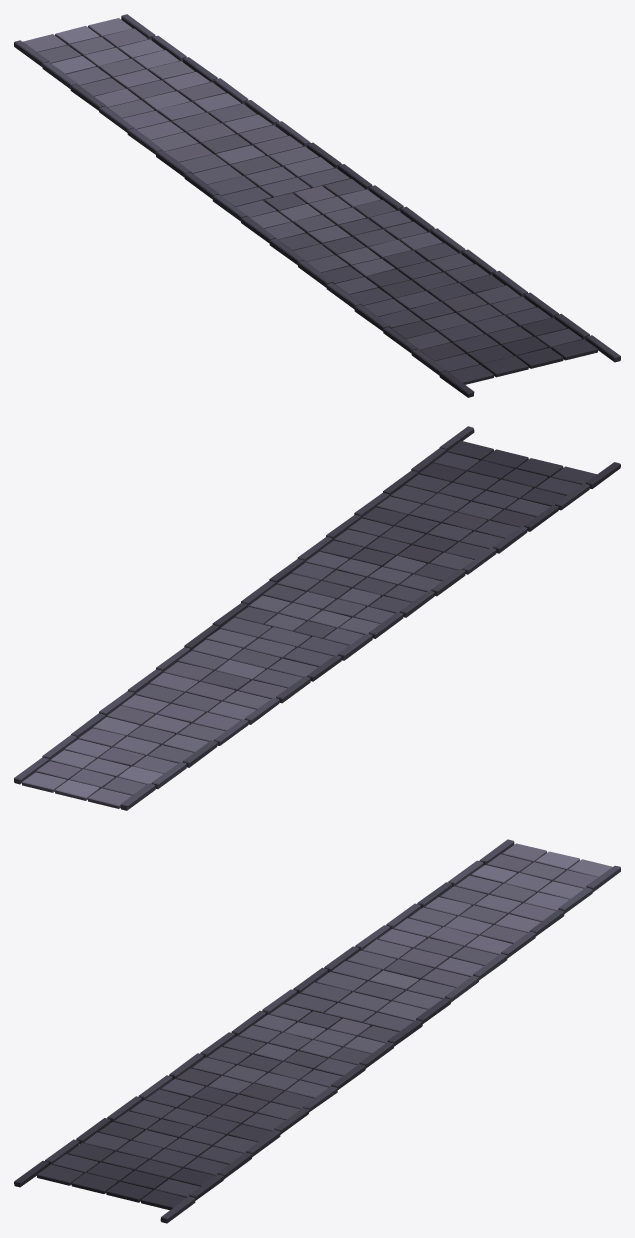
The model's file is caminho_obelisco.fbx.
The picture shows the model from 3 angles, top to bottom: view 1: azimuth 30°, elevation 25°; view 2: azimuth 150°, elevation 25°; view 3: azimuth 330°, elevation 25°; orthographic projection.
Visible parts, largest first — view 1: caminho_obelisco; view 2: caminho_obelisco; view 3: caminho_obelisco.
Part boxes in pixels (bbox=[...]): caminho_obelisco: bbox=[14, 14, 620, 397]; caminho_obelisco: bbox=[14, 426, 620, 810]; caminho_obelisco: bbox=[14, 839, 620, 1223].
Bounding box in the file's own units: 15.54 × 0.6066 × 83.04.
